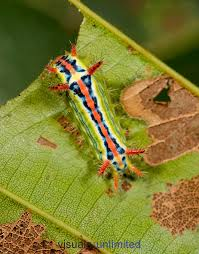Pest! (nettle_caterpillar): (36, 44, 153, 195)
